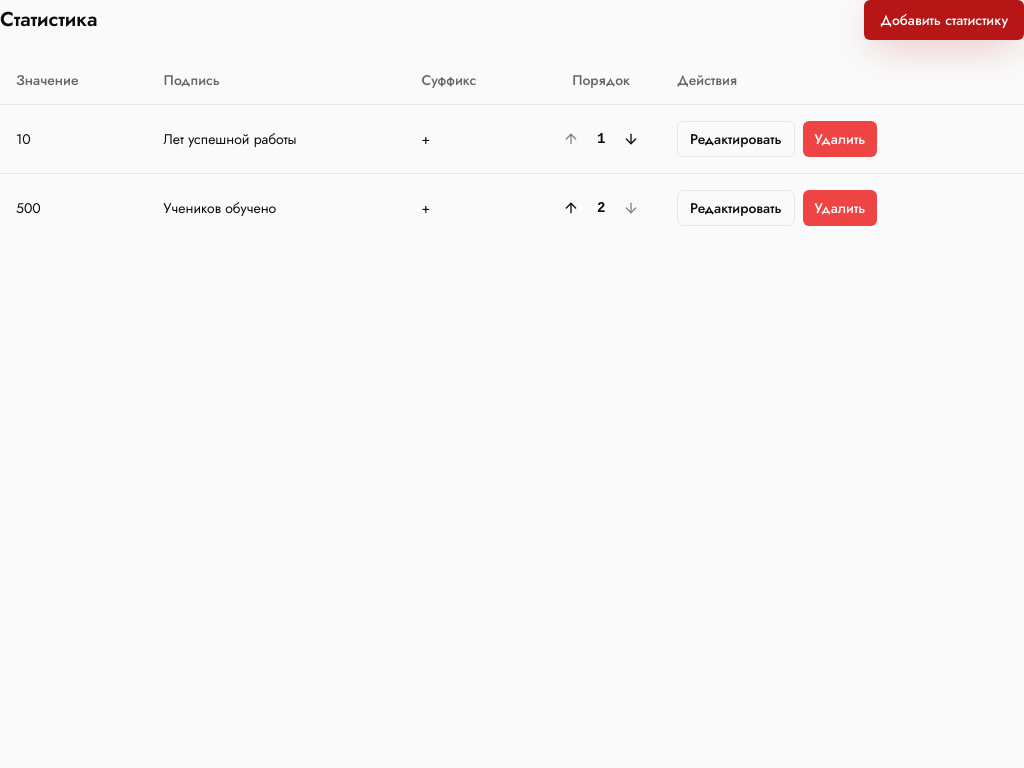
AdminStats Component › opens edit dialog pre-filled and updates statistic
Later steps or results of the test are not shown.
expect the text "Лет успешной работы" is shown: met, box [148, 104, 406, 173]
Click the button "Редактировать" in the row of "10".
click(736, 138)  # box [677, 120, 795, 156]
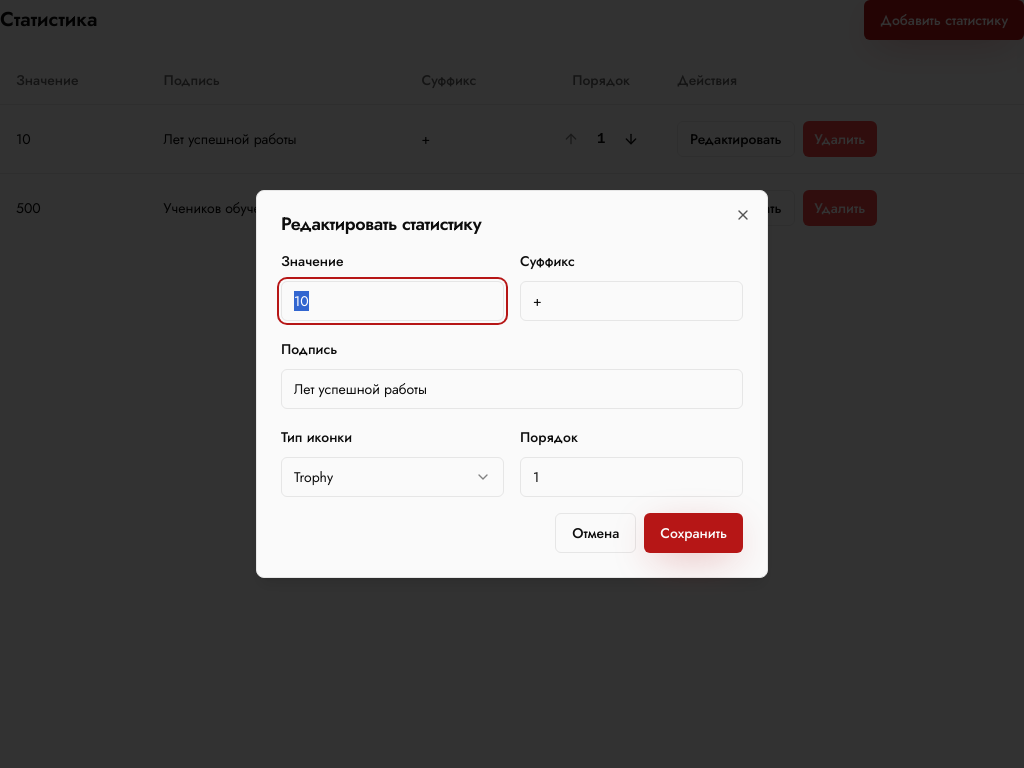
expect the heading "Редактировать статистику" is shown: met, box [281, 211, 481, 237]
expect the field labelled "Значение" holds "10": met, box [281, 281, 504, 321]
